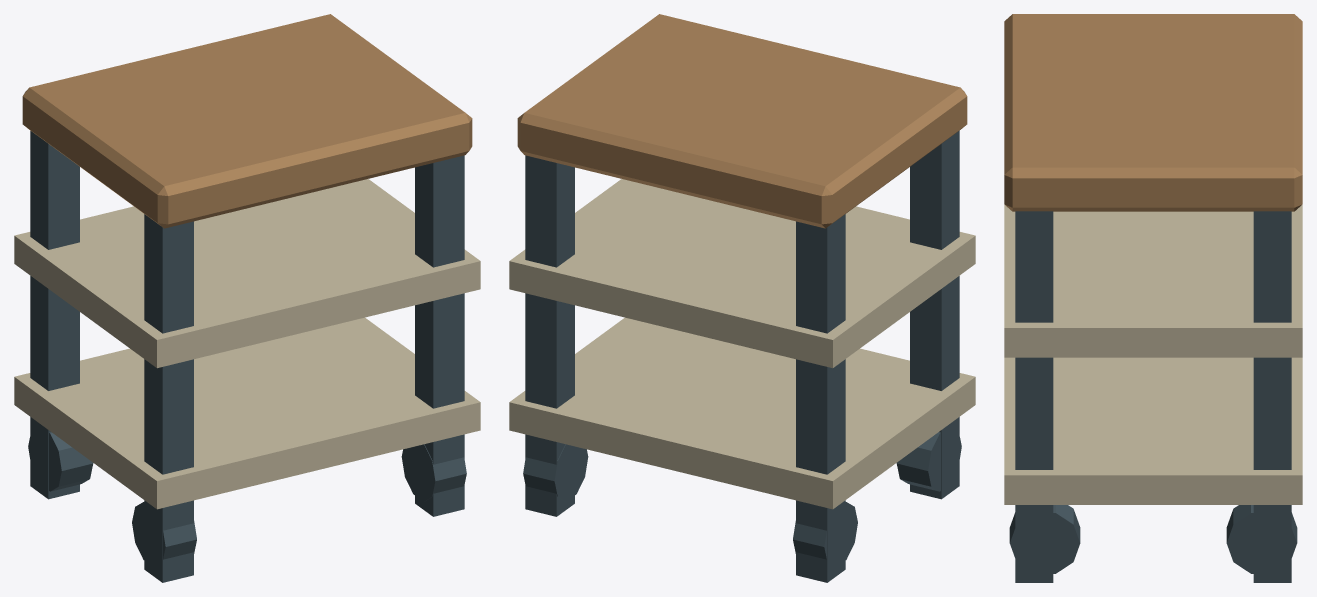
Rendered from medical_cart.glb.
The picture shows the model from 3 angles, left to right: view 1: azimuth 30°, elevation 25°; view 2: azimuth 150°, elevation 25°; view 3: azimuth 270°, elevation 25°; orthographic projection. The views are drawn at different scales.
Visible parts, largest first — view 1: medical_cart; view 2: medical_cart; view 3: medical_cart.
Part boxes in pixels (x1,y1,x2,y2): medical_cart: [14, 14, 480, 582]; medical_cart: [509, 14, 975, 582]; medical_cart: [1004, 14, 1302, 582].
Bounding box in the file's own units: 0.72 × 0.845 × 0.55.
